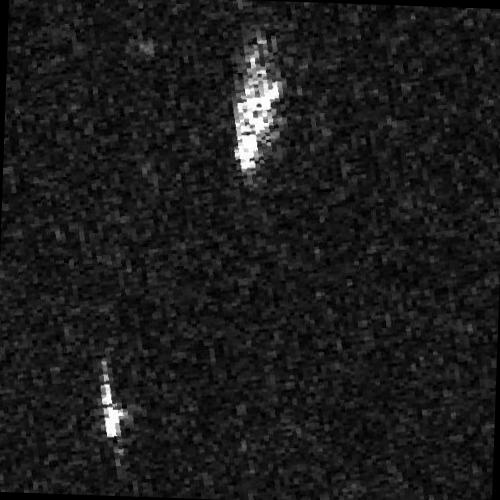ship: (232, 32, 285, 173), (99, 361, 129, 441)
